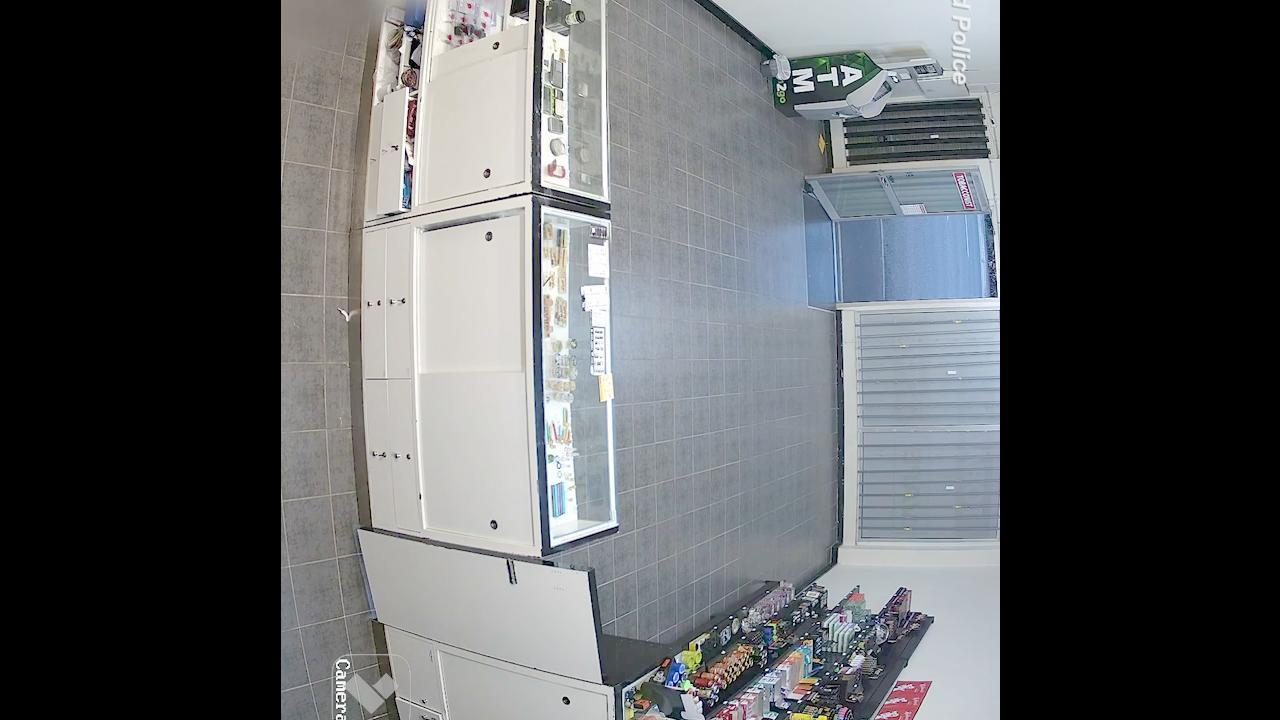melee: (711, 0, 782, 13)
